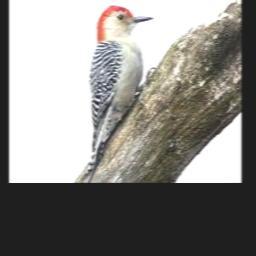Woodpecker: (77, 5, 153, 182)
